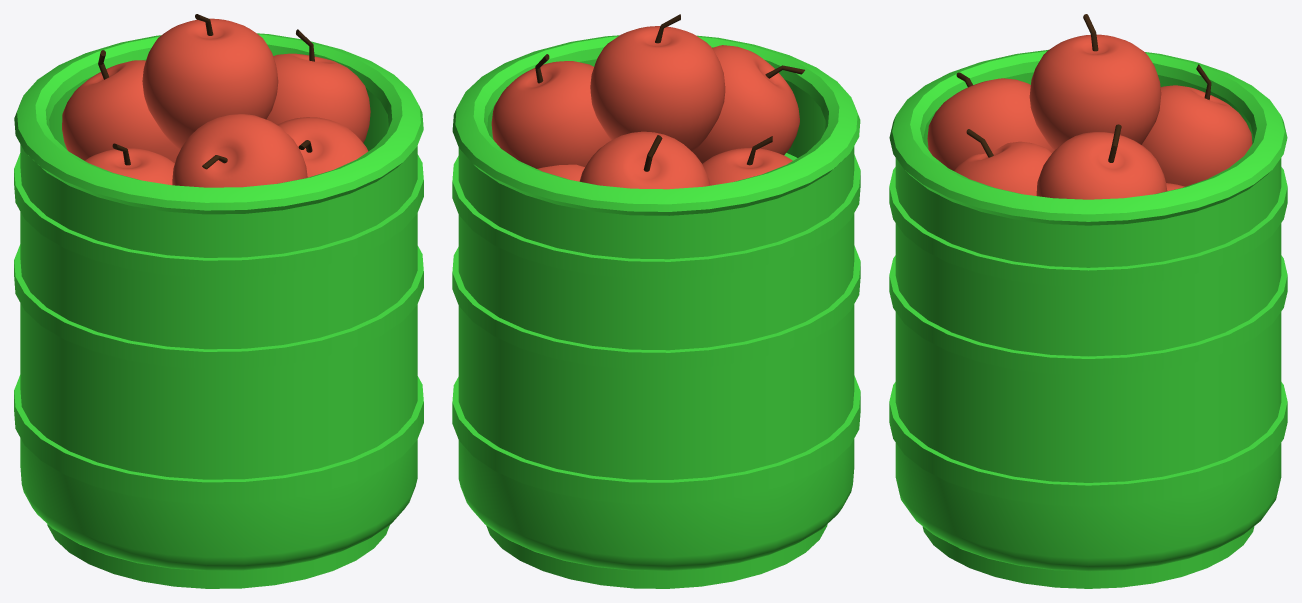
The model's file is Barril.fbx.
3 renders of one model, left to right at view 1: azimuth 30°, elevation 25°; view 2: azimuth 150°, elevation 25°; view 3: azimuth 270°, elevation 25°, orthographic. The views are drawn at different scales.
Parts seen in each view (by area): view 1: Cylinder.028; view 2: Cylinder.028; view 3: Cylinder.028.
Boxes of the visible parts, x1,y1,x2,y2 form: Cylinder.028: (14, 14, 423, 588); Cylinder.028: (452, 14, 860, 588); Cylinder.028: (889, 14, 1287, 588).
Bounding box in the file's own units: 183 × 250 × 183.
